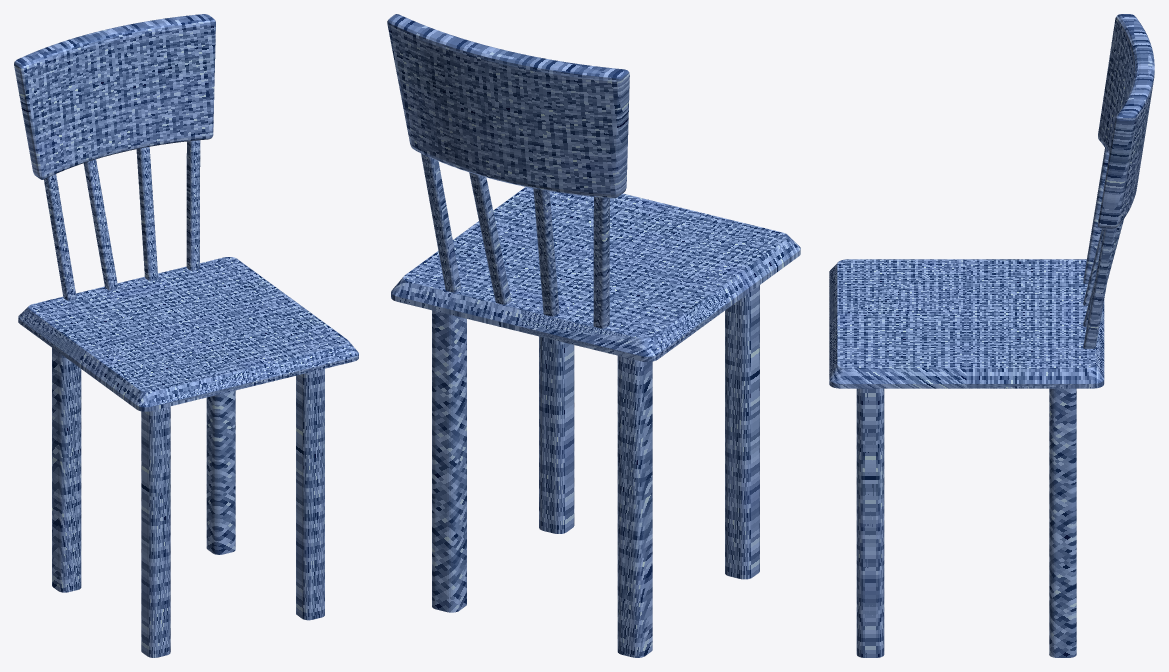
File: chair07.obj
The picture shows the model from 3 angles, left to right: view 1: azimuth 30°, elevation 25°; view 2: azimuth 150°, elevation 25°; view 3: azimuth 270°, elevation 25°; orthographic projection. The views are drawn at different scales.
Parts seen in each view (by area): view 1: Object.1; view 2: Object.1; view 3: Object.1.
Part boxes in pixels (box(x1,y1,x2,y2)): Object.1: box(14, 14, 358, 657); Object.1: box(387, 14, 800, 657); Object.1: box(829, 14, 1154, 657).
Bounding box in the file's own units: 451 × 990 × 534.
2 materials, 1 textured.
